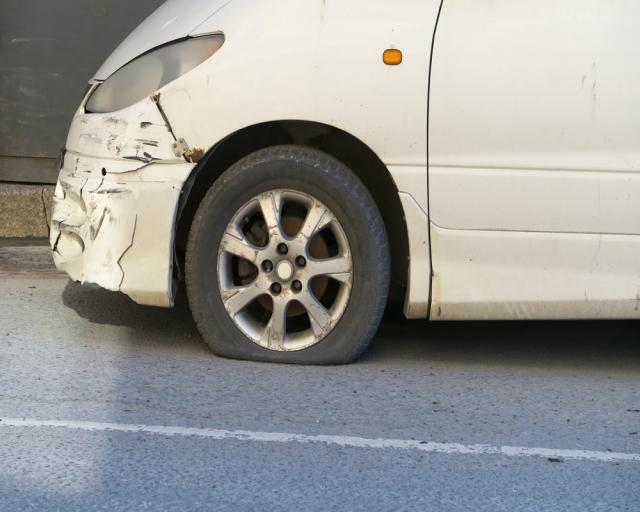crack: (117, 212, 138, 291), (106, 162, 155, 174), (52, 220, 66, 260)
scratch: (52, 109, 164, 278)
tire flat: (185, 144, 392, 365)
